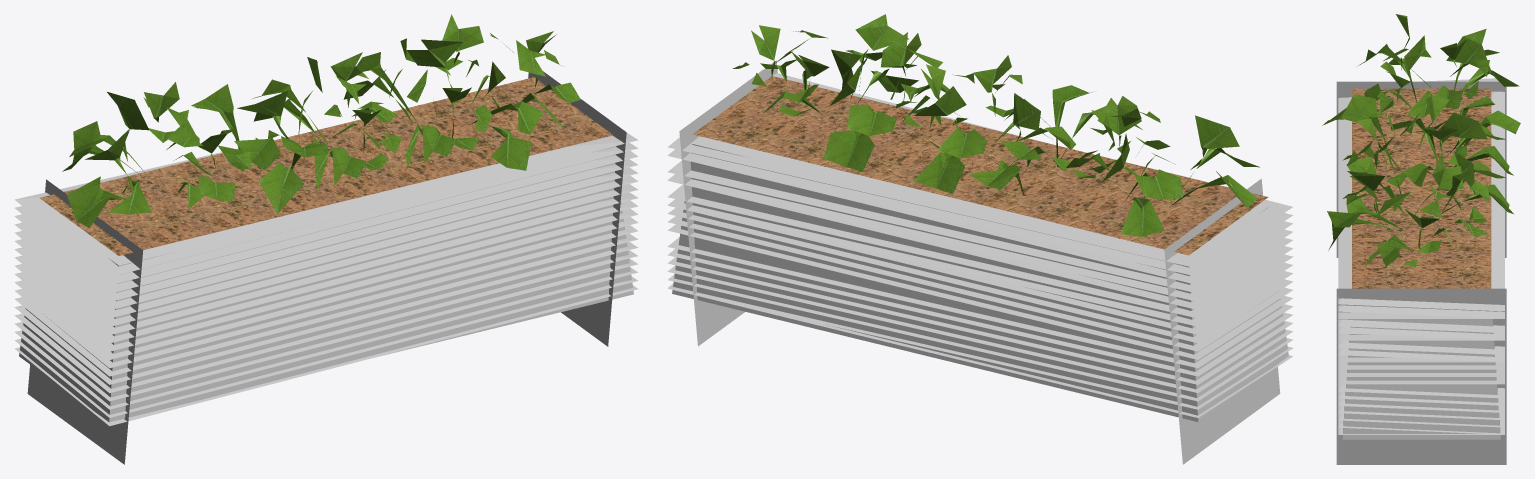
Rendered from bush_plant_box.glb.
3 views of the same model, side by side, from view 1: azimuth 30°, elevation 25°; view 2: azimuth 150°, elevation 25°; view 3: azimuth 270°, elevation 25° (orthographic). The views are drawn at different scales.
Visible parts, largest first — view 1: Cube.003, Cube.004, Sapling_objArch310.000; view 2: Cube.003, Cube.004, Sapling_objArch310.000; view 3: Cube.003, Cube.004, Sapling_objArch310.000.
Boxes of the visible parts, box(x1,y1,x2,y2) form: Cube.003: box(14, 71, 638, 464); Cube.004: box(40, 77, 613, 255); Sapling_objArch310.000: box(62, 14, 580, 228); Cube.003: box(667, 60, 1293, 464); Cube.004: box(693, 76, 1268, 255); Sapling_objArch310.000: box(732, 14, 1259, 236); Cube.003: box(1336, 78, 1506, 464); Cube.004: box(1352, 88, 1491, 288); Sapling_objArch310.000: box(1322, 14, 1520, 267).
Bounding box in the file's own units: 0.6767 × 0.3713 × 0.2512.
Materials: 3 (2 with a texture image).
